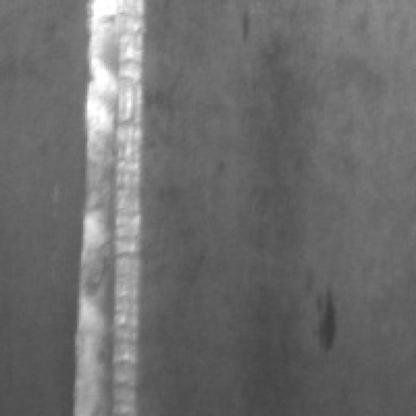inclusion: (312, 287, 345, 360)
scratches: (73, 4, 152, 416)
